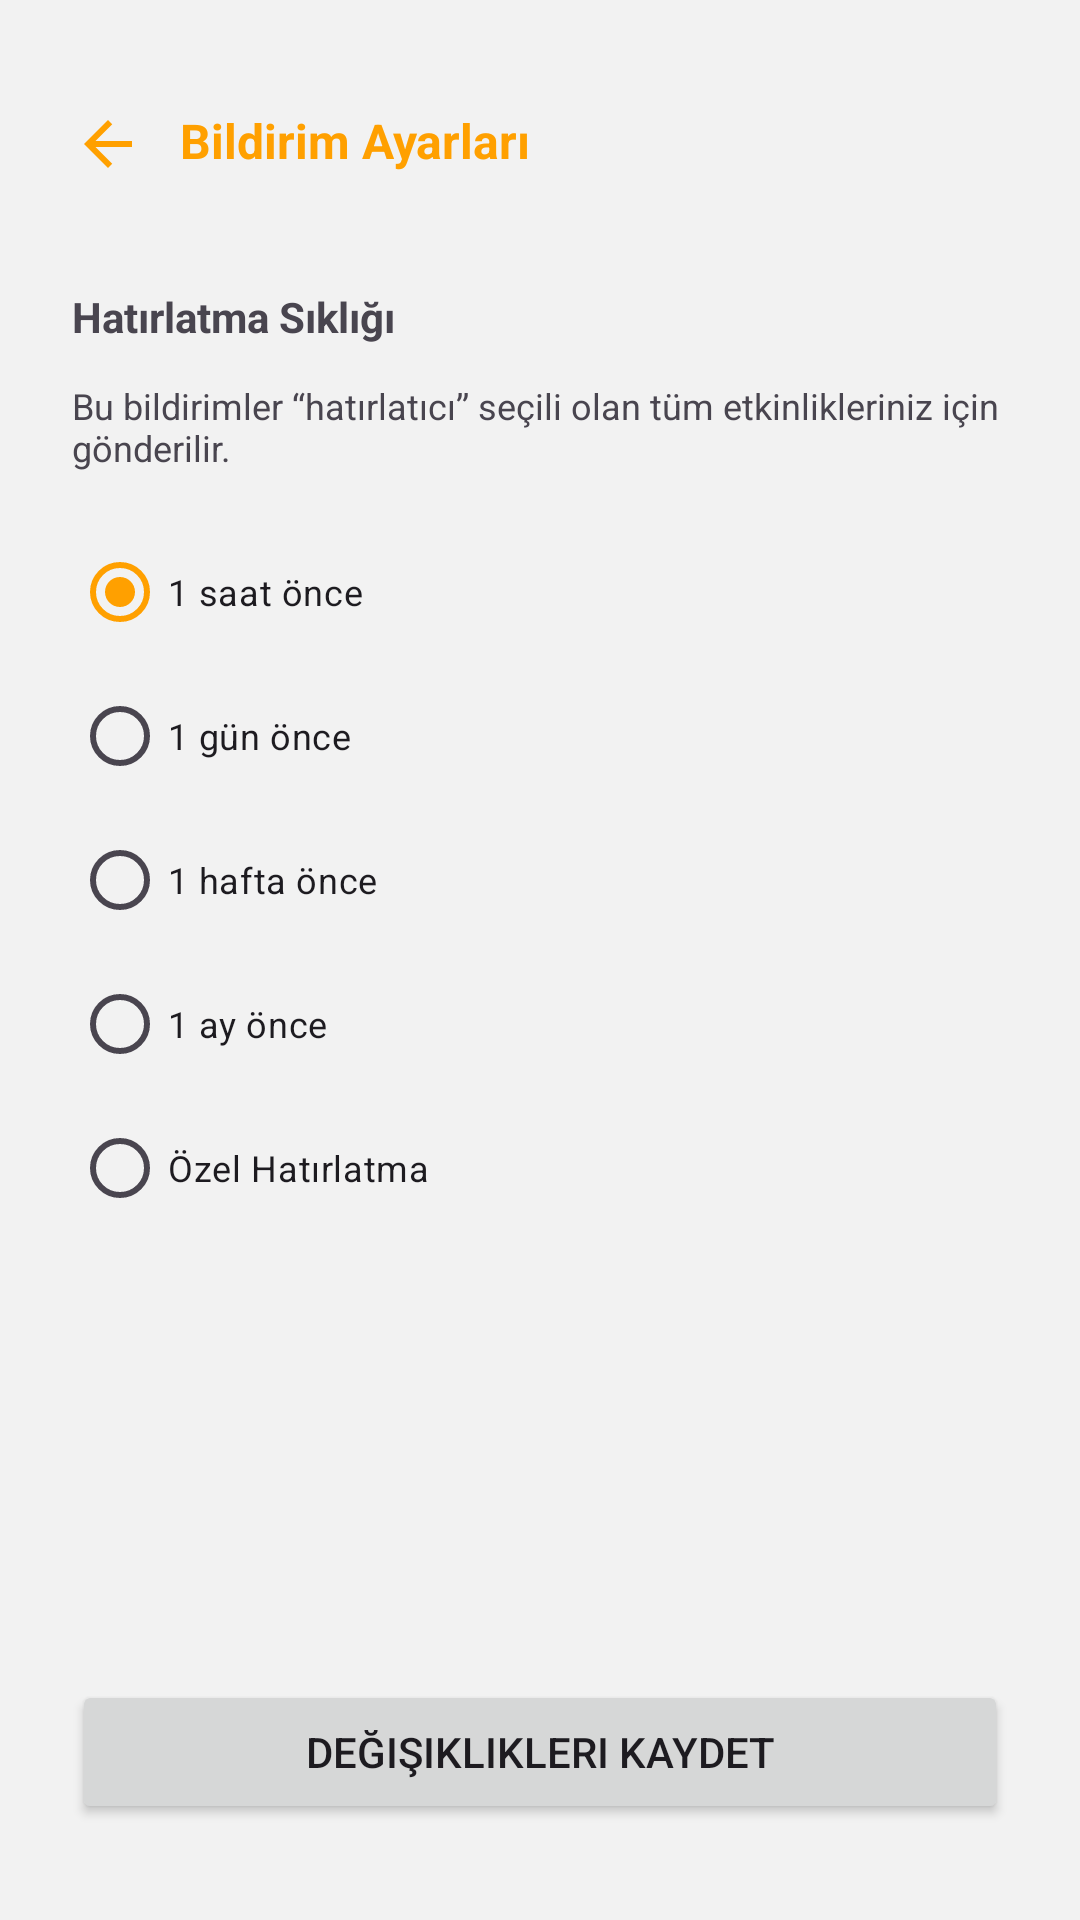

Screen size 1080 × 1920. Icon name, then its center in pixels as point (x, y):
back: point (108, 144)
